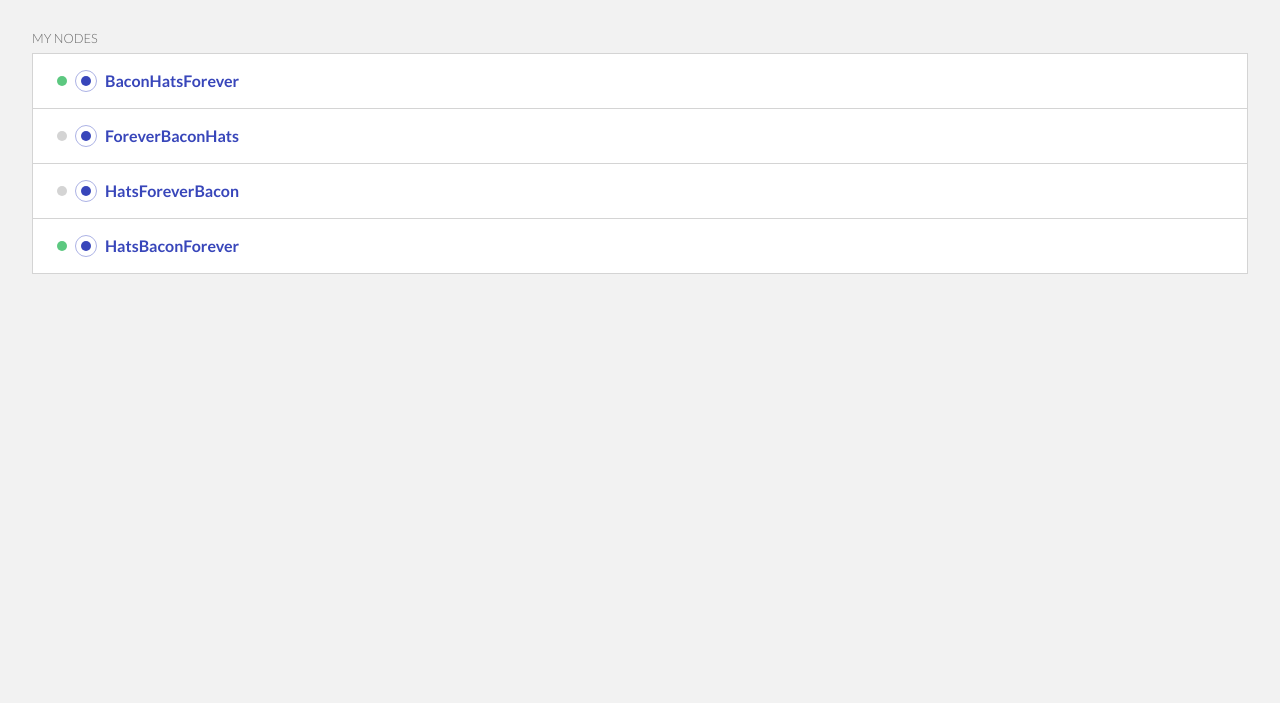
Test: Table Component › only 1 table group can be open at a time
Click the element with class "table__group" showing "Active BaconHatsForever".
click(640, 81)  # box [32,53,1248,109]
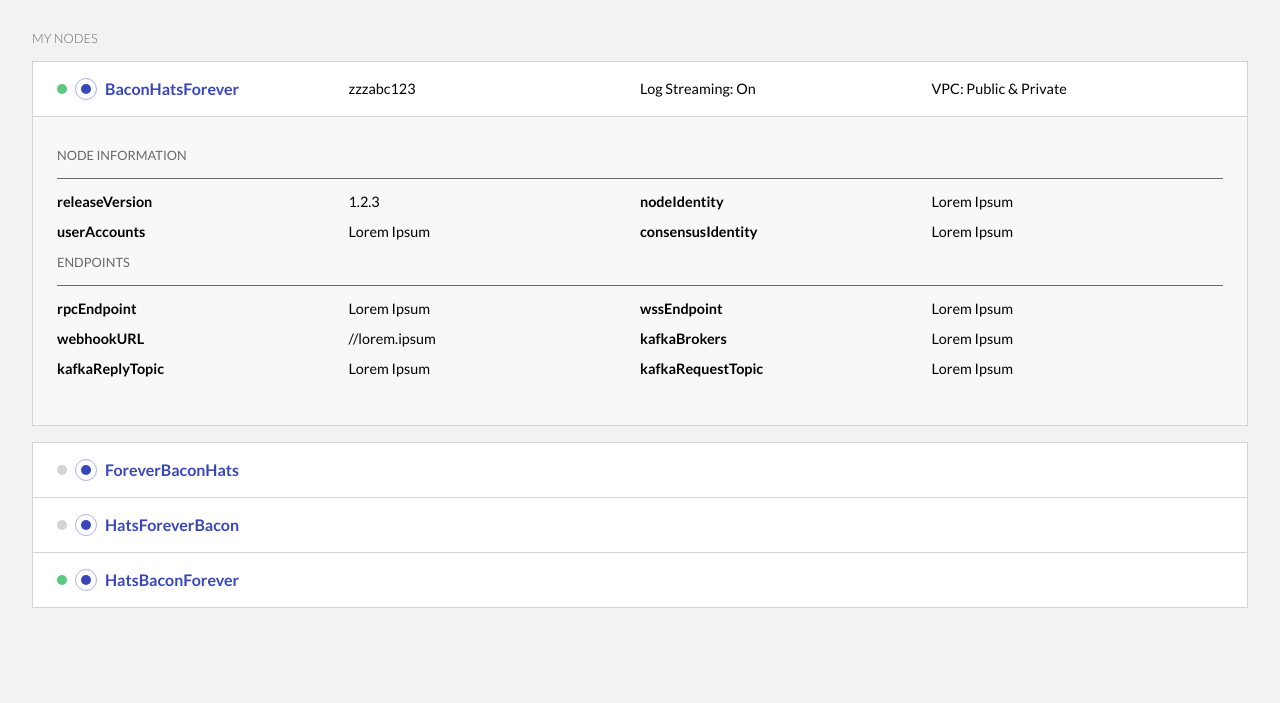
Click the element with class "table__group" showing "Active HatsBaconForever".
click(640, 580)  # box [32,553,1248,608]
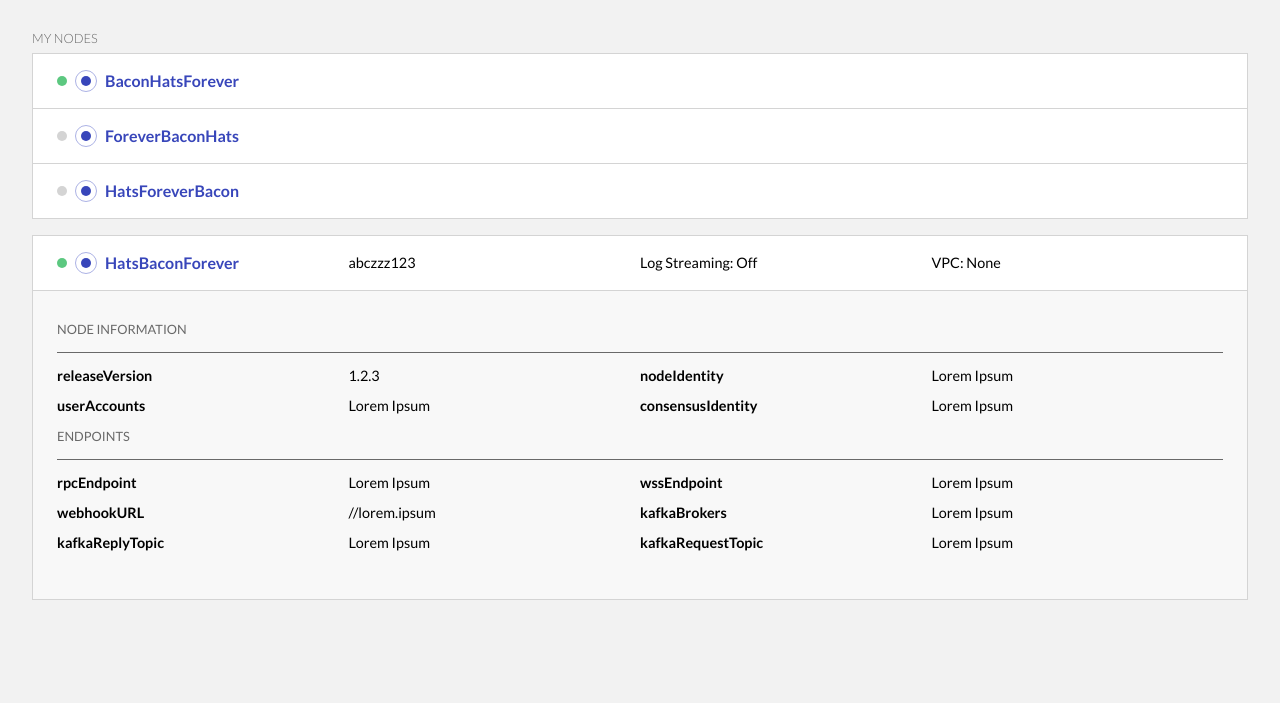
Result: the number of elements with class "table__group--active" is 1 at [32,235,1248,600]
